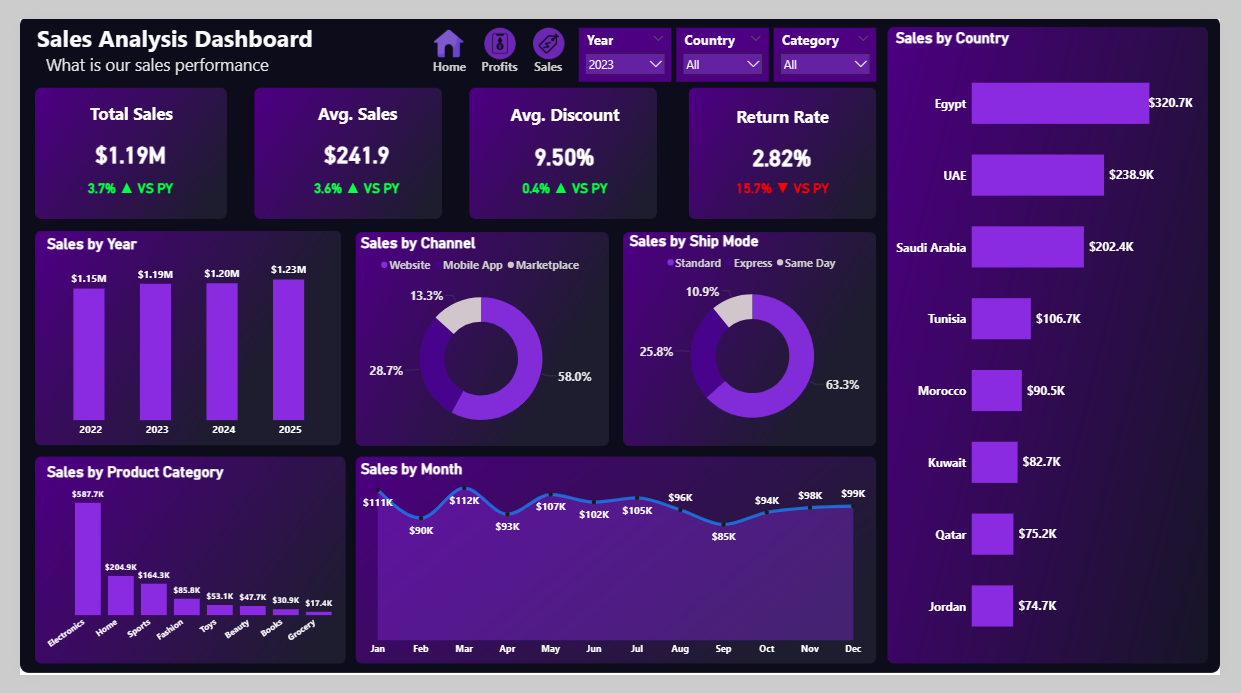

What the dashboard file says about the page in this screenshot:
{"tool":"powerbi","page":{"name":"Sales Dashboard","canvas":[1920,1050],"ordinal":1},"visuals":[{"type":"textbox","box":[21.7,0,536.7,103.3],"z":0},{"type":"card","fields":{"Values":["AllMeasures.TotalSales"]},"box":[22,104,310,222],"z":1000},{"type":"textbox","box":[96,128,164,50],"z":2000},{"type":"card","fields":{"Values":["AllMeasures.AvgSale"]},"box":[384,104,310,222],"z":3000},{"type":"textbox","box":[446,128,188,50],"z":4000},{"type":"card","fields":{"Values":["AllMeasures.AvgDiscount"]},"box":[716,106,310,222],"z":5000},{"type":"textbox","box":[774,130,196,50],"z":6000},{"type":"card","fields":{"Values":["AllMeasures.ReturnRate"]},"box":[1064,108,310,222],"z":7000},{"type":"textbox","box":[1122,132,196,50],"z":8000},{"type":"donutChart","title":"Sales by Channel","fields":{"Category":["Dim_Channel.Channel"],"Y":["AllMeasures.TotalSales"]},"box":[540,344,396,338],"z":9000},{"type":"donutChart","title":"Sales by Ship Mode","fields":{"Category":["Dim_ShipMode.ShipMode"],"Y":["AllMeasures.TotalSales"]},"box":[970,340,404,338],"z":10000},{"type":"lineChart","title":"Sales by Month","fields":{"Category":["Dim_Date.Month Name"],"Y":["AllMeasures.TotalSales"]},"box":[540,706,826,322],"z":11000},{"type":"clusteredColumnChart","title":"Sales by Year","fields":{"Category":["Dim_Date.Year"],"Y":["AllMeasures.TotalSales"]},"box":[38,346,470,332],"z":12000},{"type":"clusteredColumnChart","title":"Sales by Product Category","fields":{"Category":["Dim_Product.Category"],"Y":["AllMeasures.TotalSales"]},"box":[38,710,488,316],"z":13000},{"type":"slicer","fields":{"Values":["Dim_Customer.Country"]},"box":[1050,14,148,86],"z":14000},{"type":"slicer","fields":{"Values":["Dim_Product.Category"]},"box":[1206,14,164,86],"z":15000},{"type":"slicer","fields":{"Values":["Dim_Date.Year"]},"box":[894,14,148,86],"z":16000},{"type":"clusteredBarChart","title":"Sales by Country","fields":{"Category":["Dim_Customer.Country"],"Y":["AllMeasures.TotalSales"]},"box":[1395.1,16.2,485.4,1010.3],"z":17000},{"type":"image","box":[636.8,14.3,100,50],"z":18000,"group":"g3"},{"type":"group","id":"g1","title":"Group 2","box":[793.2,14.3,102,102],"z":19000},{"type":"group","id":"g2","title":"Group 3","box":[716.4,14.3,102,102],"z":20000},{"type":"image","box":[718.4,14.3,100,50],"z":20000,"group":"g2"},{"type":"group","id":"g3","title":"Group 4","box":[636.8,14.3,102,102],"z":21000},{"type":"image","box":[795.2,14.3,100,50],"z":21000,"group":"g1"},{"type":"textbox","box":[636.8,58.3,102,58],"z":22000,"group":"g3"},{"type":"card","fields":{"Values":["AllMeasures.T.SalesYOYpct"]},"box":[58,238,238,66],"z":22000},{"type":"textbox","box":[716.4,58.3,102,58],"z":23000,"group":"g2"},{"type":"card","fields":{"Values":["AllMeasures.AvgSalesYOYpct"]},"box":[416,238,246,66],"z":23000},{"type":"textbox","box":[793.2,58.3,102,58],"z":24000,"group":"g1"},{"type":"card","fields":{"Values":["AllMeasures.AvgDiscountYOYpct"]},"box":[746,238,252,66],"z":24000},{"type":"card","fields":{"Values":["AllMeasures.RetuenRateYOYpct"]},"box":[1094,238,252,66],"z":25000}]}

Visuals, with their boxes in screenshot pixels (x1, y1, x2, y2), scaled from the page's 1920x1050 canvas onto the 1241x693 screenshot:
textbox: (14,0,361,68)
card - AllMeasures.TotalSales: (14,69,215,215)
textbox: (62,84,168,117)
card - AllMeasures.AvgSale: (248,69,449,215)
textbox: (288,84,410,117)
card - AllMeasures.AvgDiscount: (463,70,663,216)
textbox: (500,86,627,119)
card - AllMeasures.ReturnRate: (688,71,888,218)
textbox: (725,87,852,120)
"Sales by Channel" donutChart: (349,227,605,450)
"Sales by Ship Mode" donutChart: (627,224,888,447)
"Sales by Month" lineChart: (349,466,883,678)
"Sales by Year" clusteredColumnChart: (25,228,328,447)
"Sales by Product Category" clusteredColumnChart: (25,469,340,677)
slicer - Dim_Customer.Country: (679,9,774,66)
slicer - Dim_Product.Category: (780,9,886,66)
slicer - Dim_Date.Year: (578,9,674,66)
"Sales by Country" clusteredBarChart: (902,11,1215,677)
image: (412,9,476,42)
"Group 2" group: (513,9,579,77)
"Group 3" group: (463,9,529,77)
image: (464,9,529,42)
"Group 4" group: (412,9,478,77)
image: (514,9,579,42)
textbox: (412,38,478,77)
card - AllMeasures.T.SalesYOYpct: (37,157,191,201)
textbox: (463,38,529,77)
card - AllMeasures.AvgSalesYOYpct: (269,157,428,201)
textbox: (513,38,579,77)
card - AllMeasures.AvgDiscountYOYpct: (482,157,645,201)
card - AllMeasures.RetuenRateYOYpct: (707,157,870,201)
